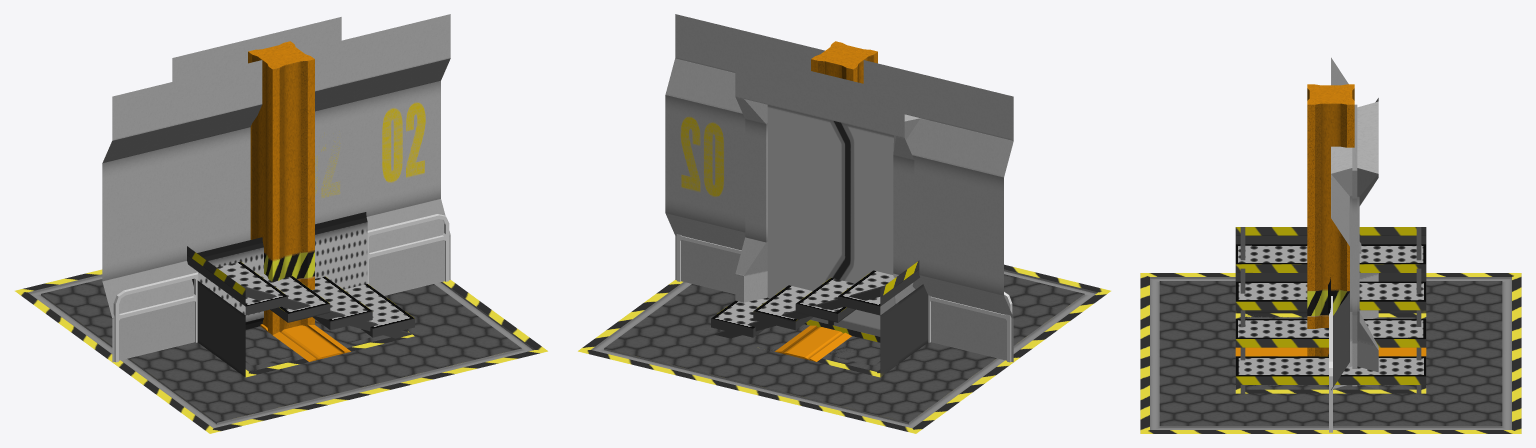
The model's file is World.fbx.
3 renders of one model, left to right at view 1: azimuth 30°, elevation 25°; view 2: azimuth 150°, elevation 25°; view 3: azimuth 270°, elevation 25°, orthographic. The views are drawn at different scales.
Visible parts, largest first — view 1: Wall4, FloorPlane4x4, Pillar, Stairs, Wall2, LowerWall, Doorway2, Wall1, Railing4, FloorPlane2x2, FloorConnection; view 2: Wall4, FloorPlane4x4, Doorway2, Door2_L, Stairs, Door2_R, Wall2, Pillar, FloorConnection, FloorPlane2x2, Railing4; view 3: FloorPlane4x4, Stairs, Pillar, Doorway2, Wall4, FloorPlane2x2, FloorConnection, Wall2, Railing4.
Part boxes in pixels (bbox=[...]): Wall4: bbox=[102, 14, 450, 362]; FloorPlane4x4: bbox=[15, 269, 547, 433]; Pillar: bbox=[248, 41, 314, 334]; Stairs: bbox=[187, 246, 414, 376]; Wall2: bbox=[187, 42, 356, 273]; LowerWall: bbox=[197, 212, 367, 329]; Doorway2: bbox=[172, 17, 341, 273]; Wall1: bbox=[229, 45, 323, 244]; Railing4: bbox=[113, 214, 449, 362]; FloorPlane2x2: bbox=[245, 319, 414, 377]; FloorConnection: bbox=[273, 325, 350, 361]; Wall4: bbox=[665, 14, 1013, 362]; FloorPlane4x4: bbox=[578, 264, 1110, 433]; Doorway2: bbox=[735, 34, 928, 304]; Door2_L: bbox=[767, 105, 847, 328]; Stairs: bbox=[711, 260, 928, 376]; Door2_R: bbox=[831, 122, 894, 342]; Wall2: bbox=[872, 70, 928, 237]; Pillar: bbox=[811, 41, 877, 83]; FloorConnection: bbox=[775, 325, 851, 361]; FloorPlane2x2: bbox=[768, 324, 880, 377]; Railing4: bbox=[676, 234, 1012, 362]; FloorPlane4x4: bbox=[1140, 273, 1521, 433]; Stairs: bbox=[1235, 227, 1426, 393]; Pillar: bbox=[1307, 84, 1354, 356]; Doorway2: bbox=[1331, 98, 1378, 389]; Wall4: bbox=[1331, 57, 1349, 390]; FloorPlane2x2: bbox=[1235, 313, 1426, 393]; FloorConnection: bbox=[1235, 347, 1426, 356]; Wall2: bbox=[1333, 293, 1349, 346]; Railing4: bbox=[1329, 296, 1332, 432].
Size of what is drawn, in the model's own units: 4 by 3.02 by 4.
